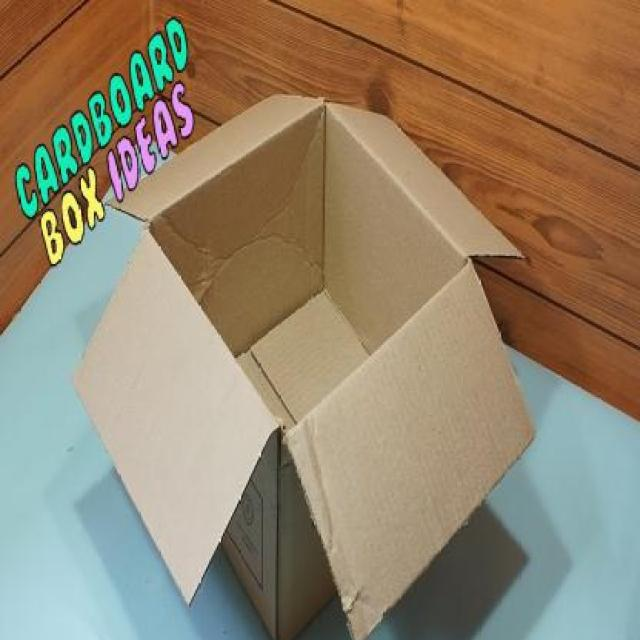box: (67, 82, 538, 640)
